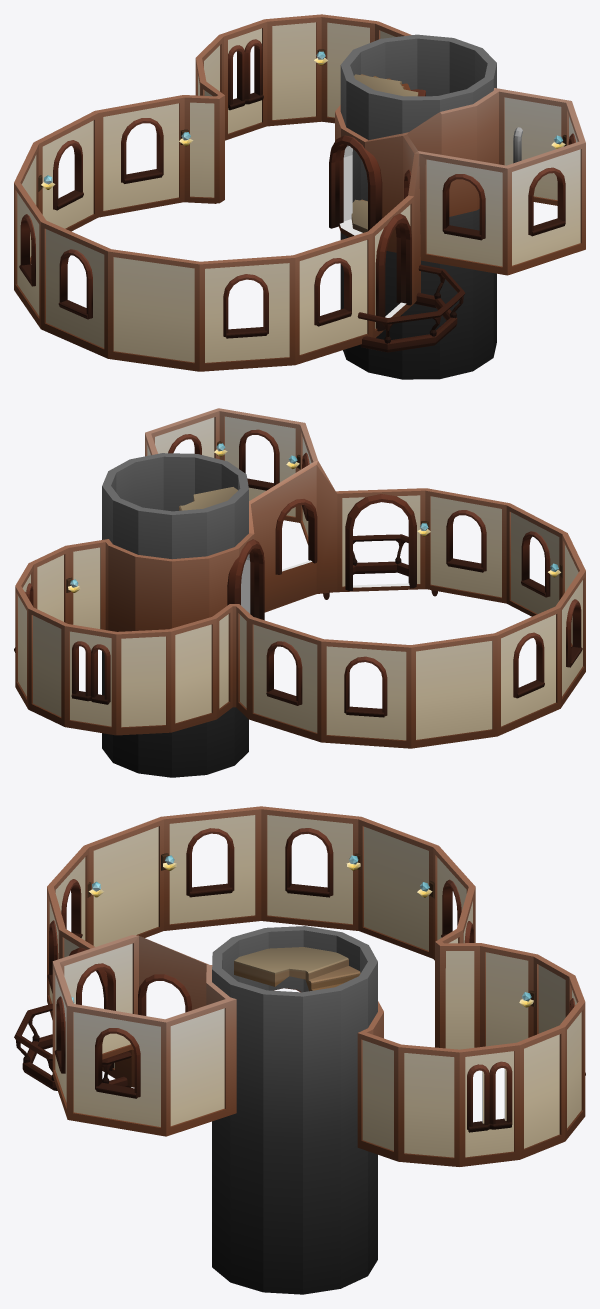
The model's file is new_main_room_walls.gltf.
The picture shows the model from 3 angles, top to bottom: view 1: azimuth 30°, elevation 25°; view 2: azimuth 150°, elevation 25°; view 3: azimuth 270°, elevation 25°; orthographic projection. The views are drawn at different scales.
Parts seen in each view (by area): view 1: wall10, wall1, wall13, wall2, wall6, wall16, wall7, wall3, wall4, wall20, wall17, wall9 (+7 smaller); view 2: wall10, wall14, wall18, wall13, wall5, wall17, wall3, wall16, wall19, wall4, wall11, wall2 (+7 smaller); view 3: wall10, wall11, wall12, wall8, wall19, wall20, wall18, wall1, wall9, wall14, wall15, wall6 (+8 smaller).
Part boxes in pixels (x1=…): wall10: x1=329, y1=34, x2=500, y2=379; wall1: x1=108, y1=249, x2=199, y2=371; wall13: x1=219, y1=14, x2=321, y2=140; wall2: x1=199, y1=255, x2=295, y2=371; wall6: x1=418, y1=151, x2=507, y2=275; wall16: x1=95, y1=95, x2=193, y2=217; wall7: x1=507, y1=141, x2=585, y2=275; wall3: x1=293, y1=231, x2=372, y2=364; wall4: x1=357, y1=195, x2=465, y2=352; wall20: x1=41, y1=220, x2=110, y2=358; wall17: x1=34, y1=111, x2=98, y2=231; wall9: x1=499, y1=89, x2=570, y2=205; wall10: x1=102, y1=453, x2=264, y2=777; wall14: x1=116, y1=616, x2=216, y2=735; wall18: x1=410, y1=633, x2=497, y2=748; wall13: x1=28, y1=607, x2=116, y2=735; wall5: x1=249, y1=460, x2=337, y2=612; wall17: x1=321, y1=639, x2=411, y2=748; wall3: x1=417, y1=488, x2=509, y2=603; wall16: x1=248, y1=617, x2=323, y2=742; wall19: x1=494, y1=606, x2=560, y2=735; wall4: x1=323, y1=488, x2=437, y2=599; wall11: x1=29, y1=539, x2=108, y2=629; wall2: x1=506, y1=503, x2=566, y2=616; wall10: x1=206, y1=926, x2=383, y2=1294; wall11: x1=357, y1=1032, x2=459, y2=1166; wall12: x1=459, y1=1025, x2=565, y2=1166; wall8: x1=67, y1=1004, x2=166, y2=1136; wall19: x1=261, y1=806, x2=361, y2=930; wall20: x1=161, y1=806, x2=261, y2=930; wall18: x1=346, y1=817, x2=438, y2=958; wall1: x1=84, y1=817, x2=176, y2=946; wall9: x1=165, y1=999, x2=230, y2=1136; wall14: x1=480, y1=943, x2=574, y2=1046; wall15: x1=435, y1=929, x2=481, y2=1049; wall6: x1=53, y1=935, x2=138, y2=1059.
Bounding box in the file's own units: 14.61 × 8.01 × 13.94.
1 material, 1 textured.
